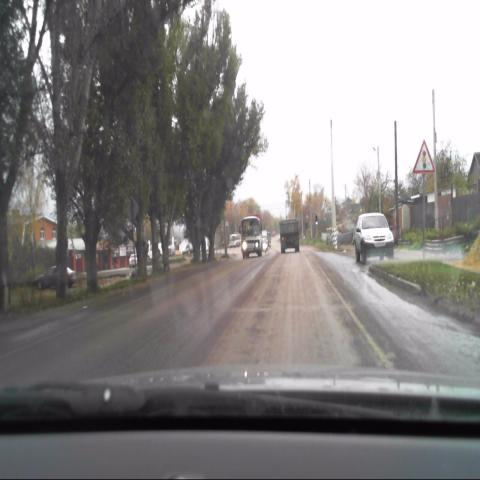1_8: (411, 138, 436, 173)
